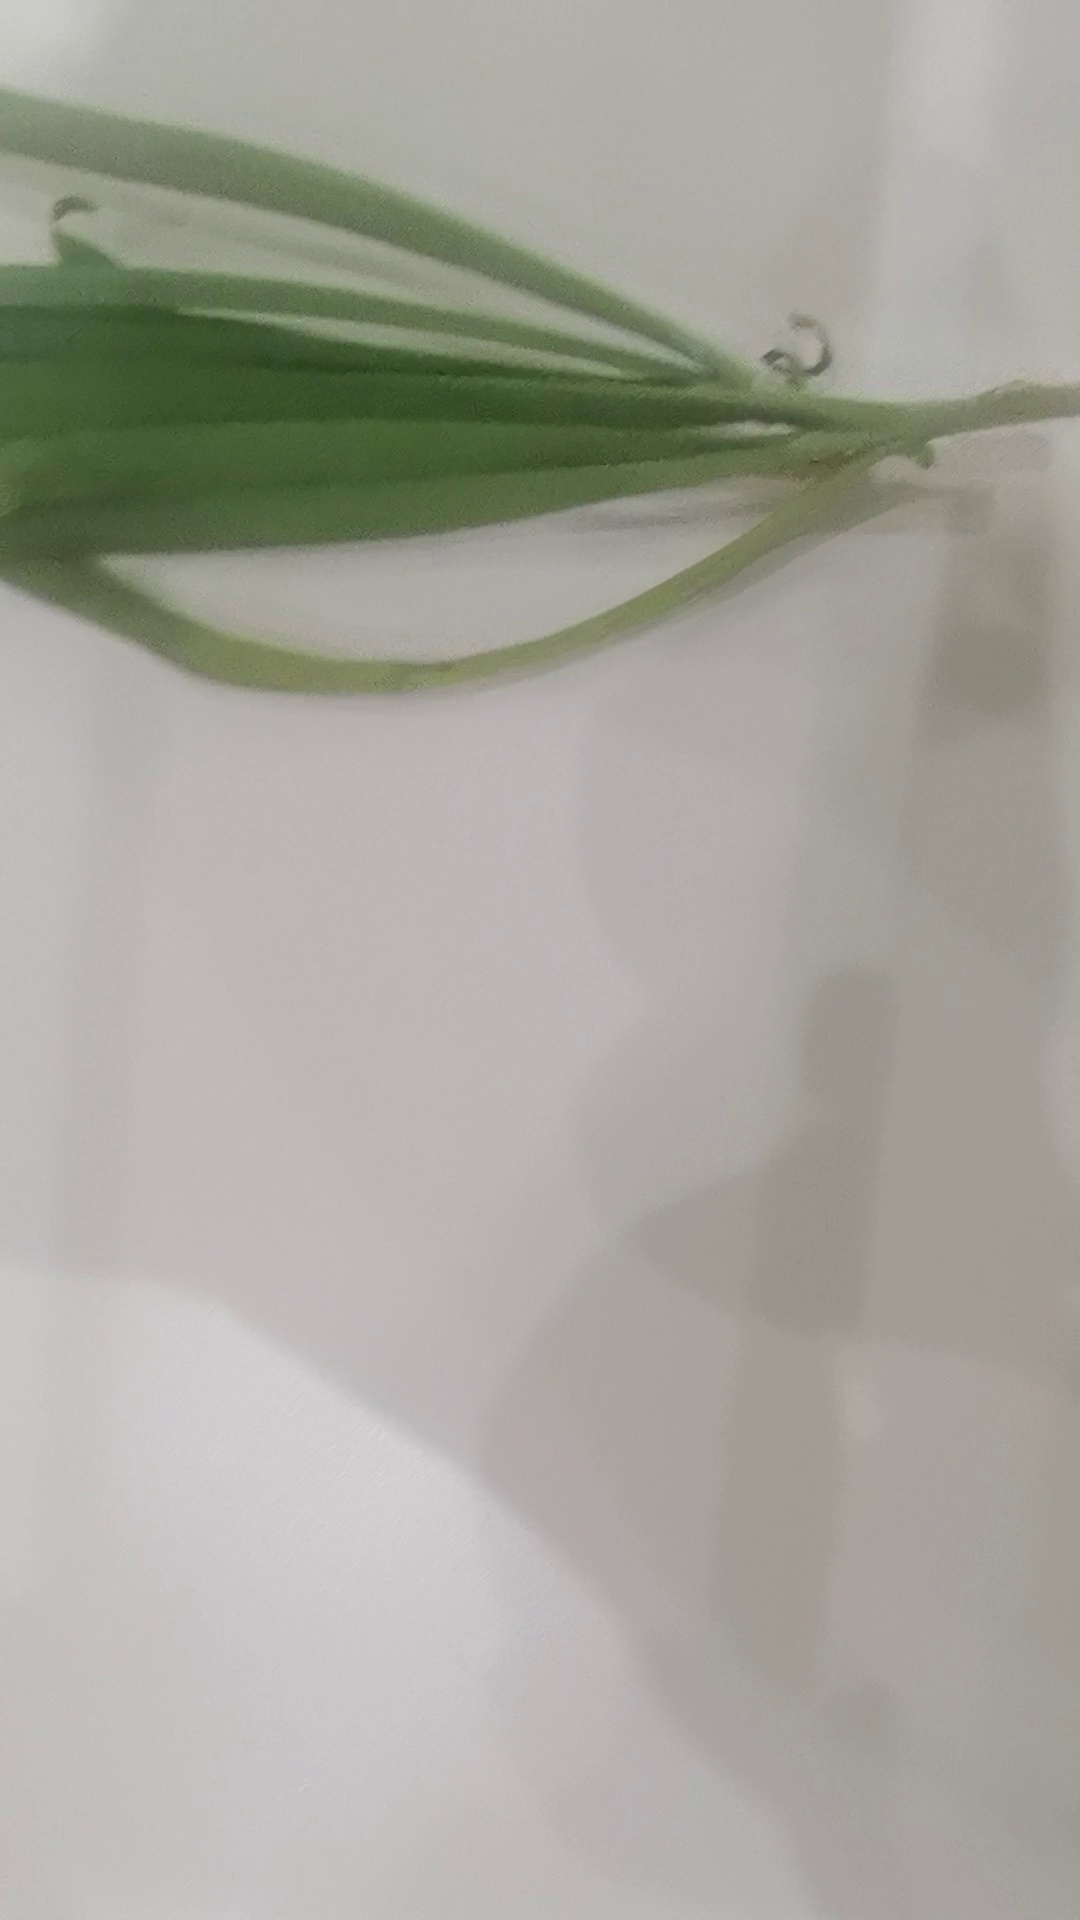chives: (7, 74, 1080, 723)
